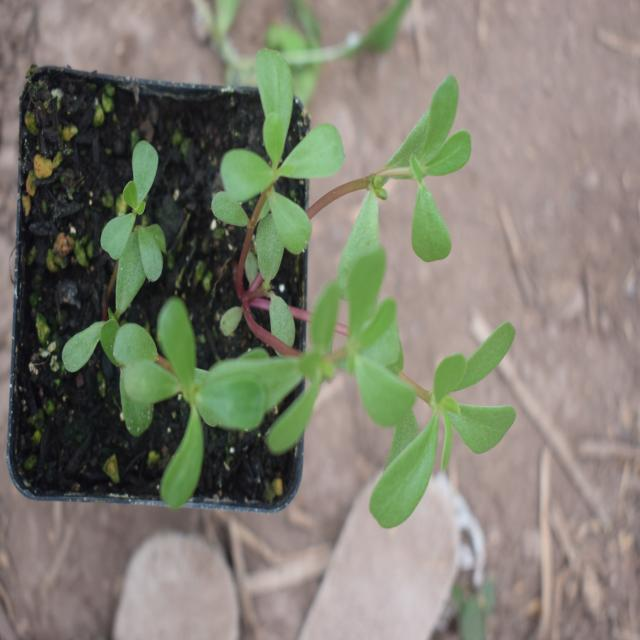purslane: (81, 56, 518, 532)
